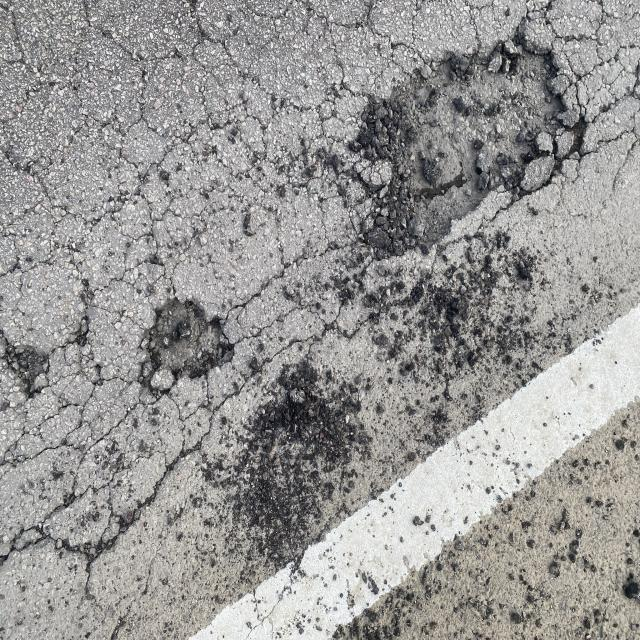pothole: (306, 8, 619, 256), (81, 263, 256, 426)
